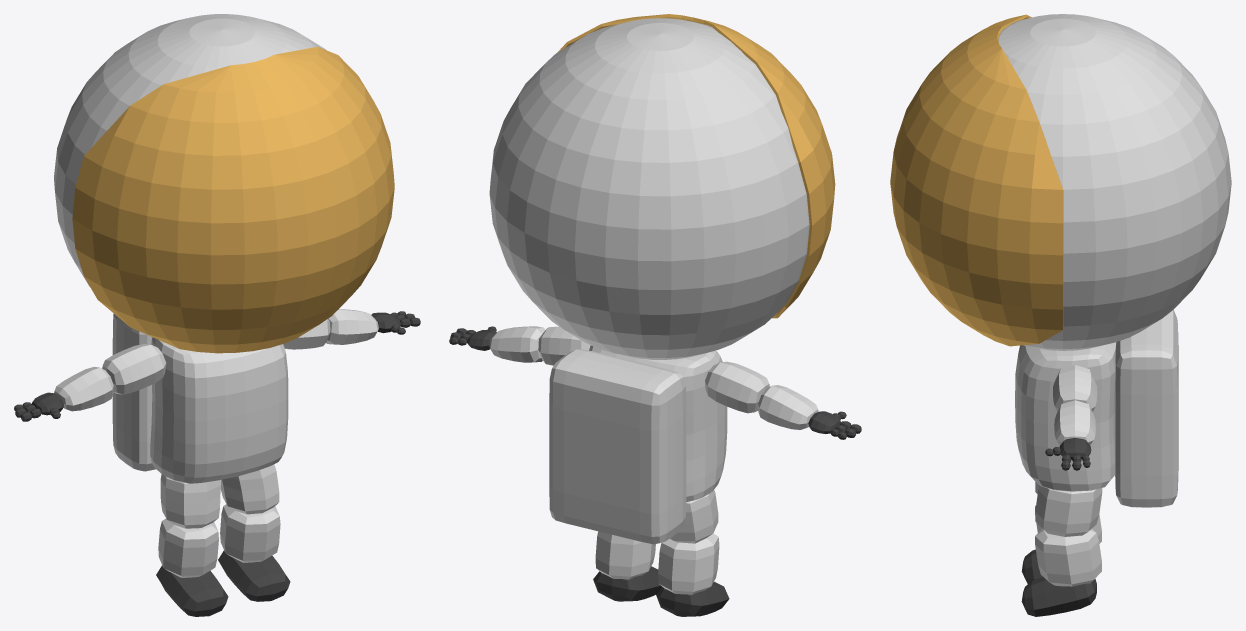
Rendered from Chibinaut.glb.
3 views of the same model, side by side, from view 1: azimuth 30°, elevation 25°; view 2: azimuth 150°, elevation 25°; view 3: azimuth 270°, elevation 25° (orthographic).
Parts seen in each view (by area): view 1: Sphere.001, Cube; view 2: Sphere.001, Cube; view 3: Sphere.001, Cube.
Part boxes in pixels (<box>): Sphere.001: <box>54,14,394,353</box>; Cube: <box>14,309,420,616</box>; Sphere.001: <box>489,14,835,359</box>; Cube: <box>449,326,861,616</box>; Sphere.001: <box>890,14,1231,350</box>; Cube: <box>1015,310,1178,616</box>.
Bounding box in the file's own units: 1.67 × 2.27 × 1.24.
